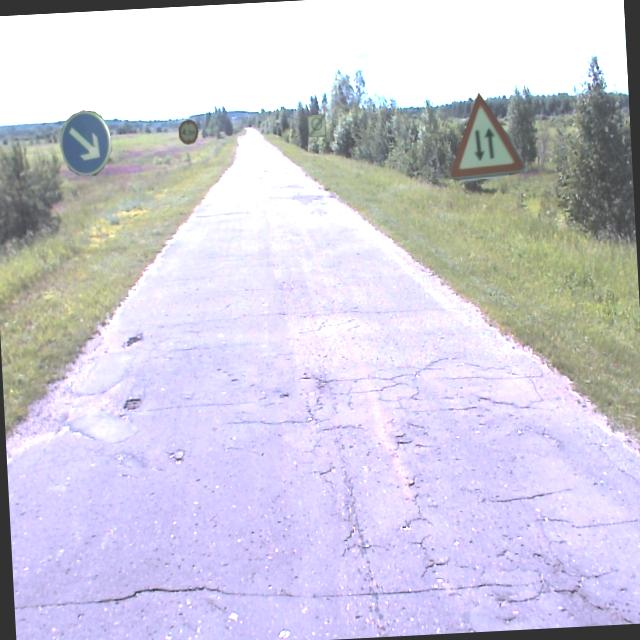road: (7, 134, 640, 640)
